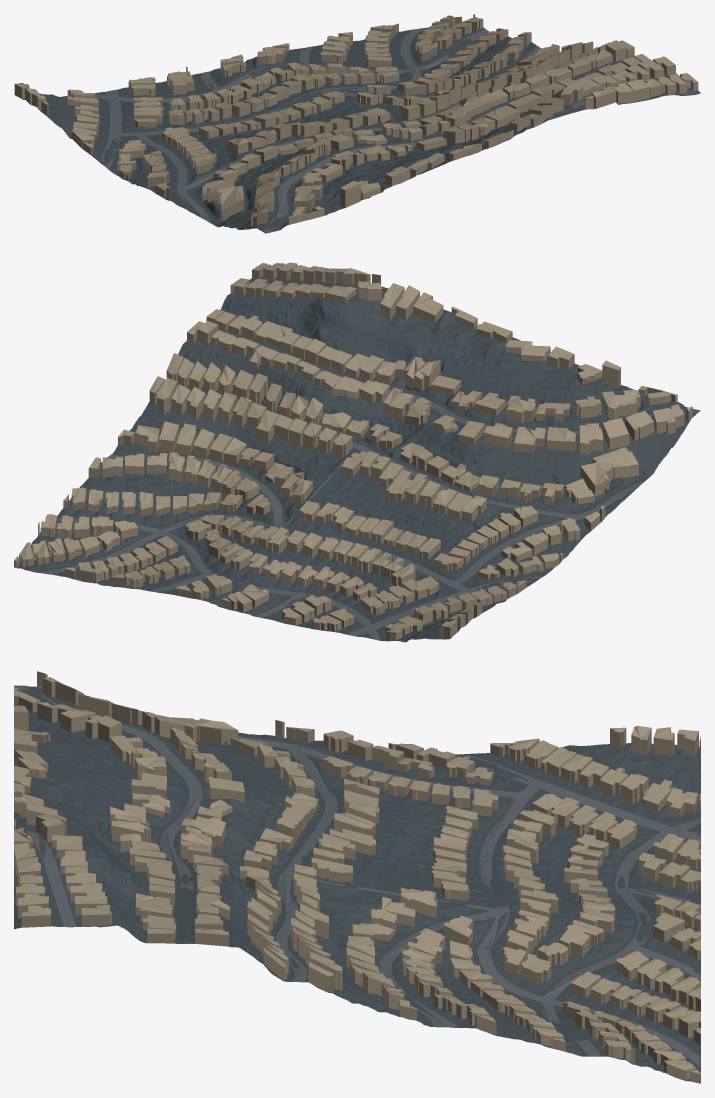
Rendered from epsg26910-1426-10876.lod0.glb.
The picture shows the model from 3 angles, top to bottom: view 1: azimuth 30°, elevation 25°; view 2: azimuth 150°, elevation 25°; view 3: azimuth 270°, elevation 25°; orthographic projection. The views are drawn at different scales.
Parts seen in each view (by area): view 1: epsg26910-1426-10876-lod0; view 2: epsg26910-1426-10876-lod0; view 3: epsg26910-1426-10876-lod0.
Boxes of the visible parts, x1,y1,x2,y2 form: epsg26910-1426-10876-lod0: (14, 14, 700, 233); epsg26910-1426-10876-lod0: (14, 262, 700, 642); epsg26910-1426-10876-lod0: (14, 671, 700, 1083).
Size of the model in its own units: 384 by 115 by 384.
